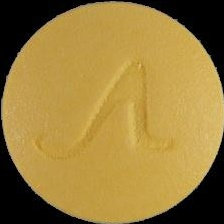52959-042: (0, 0, 224, 224)
